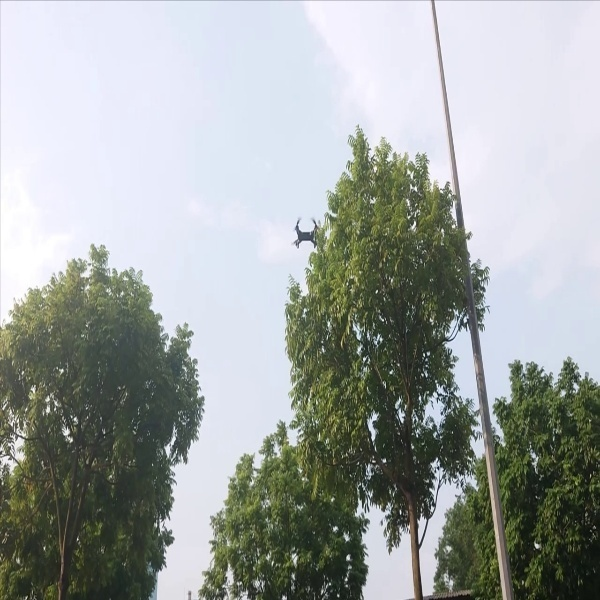drone: (288, 213, 319, 250)
